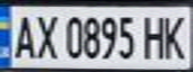0: (60, 11, 84, 60)
5: (115, 11, 142, 61)
8: (81, 11, 103, 61)
9: (100, 12, 121, 61)
A: (6, 10, 39, 61)
H: (139, 11, 172, 60)
K: (160, 10, 193, 60)
X: (30, 11, 60, 61)
